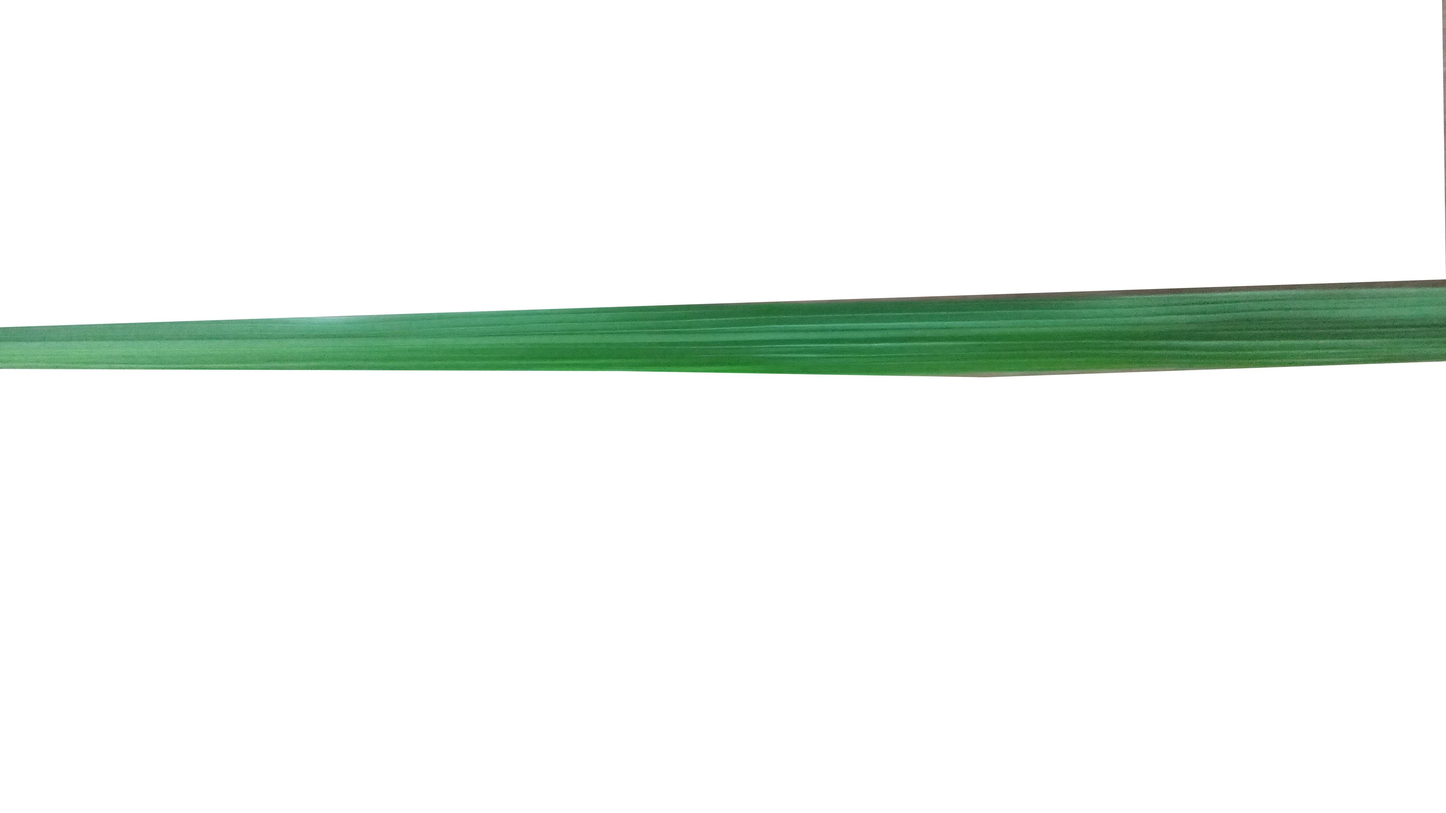Healthy: (0, 277, 1446, 374)
